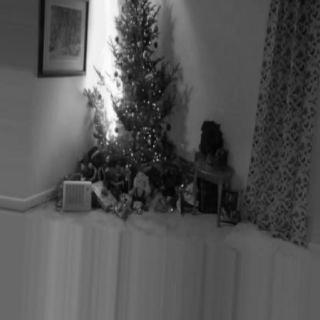Fire: (86, 1, 128, 149)
